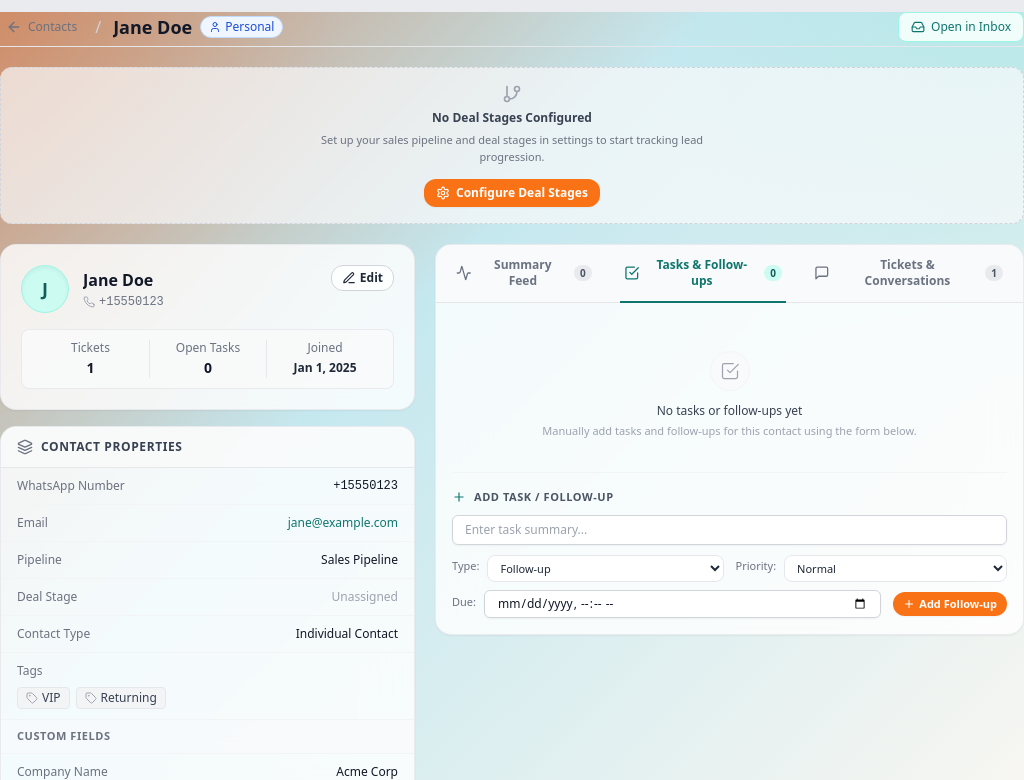
Scenario: ContactDetail › Summary Feed starts empty and does not show conversation content
This screenshot has width=1024, height=780.
Switch to Summary Feed tab
Click the button "Summary Feed 0": (524, 274) [452,245,596,303]
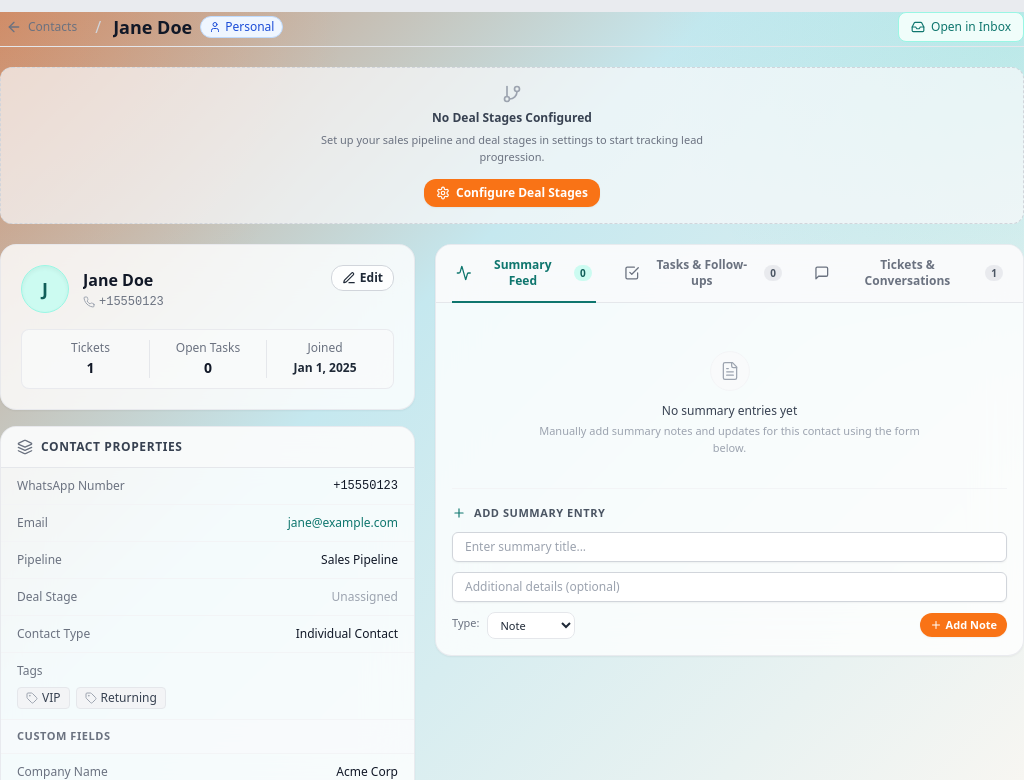
Expected: the text "No summary entries yet" is shown, [662,402,797,419]
